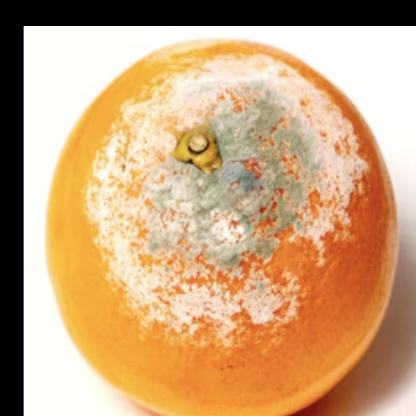rotten: (47, 42, 399, 416)
